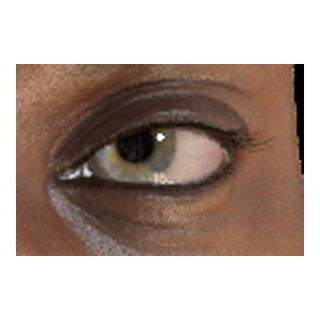pupil: (116, 124, 154, 162)
